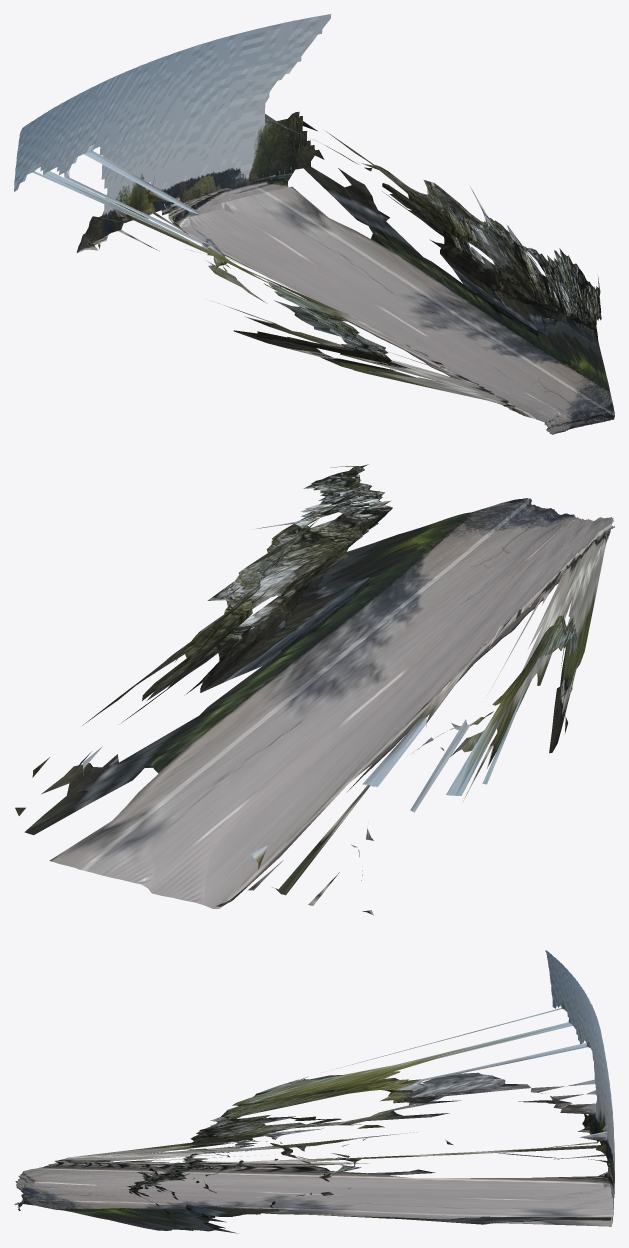
3 views of the same model, one above another, from view 1: azimuth 30°, elevation 25°; view 2: azimuth 150°, elevation 25°; view 3: azimuth 270°, elevation 25° (orthographic). The views are drawn at different scales.
Visible parts, largest first — view 1: defaultobject; view 2: defaultobject; view 3: defaultobject.
Part boxes in pixels (box(x1,y1,x2,y2)): defaultobject: box(14, 14, 614, 434); defaultobject: box(15, 464, 614, 915); defaultobject: box(14, 950, 614, 1233).
Size of the model in its own units: 28.2 by 13.19 by 44.55.
1 material, 1 textured.
